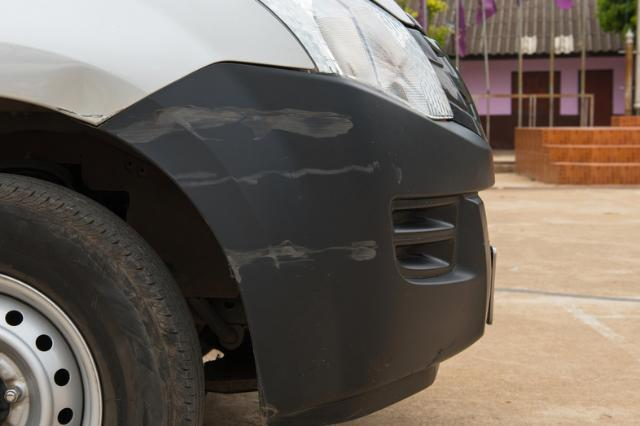Bumper: (123, 82, 400, 293)
